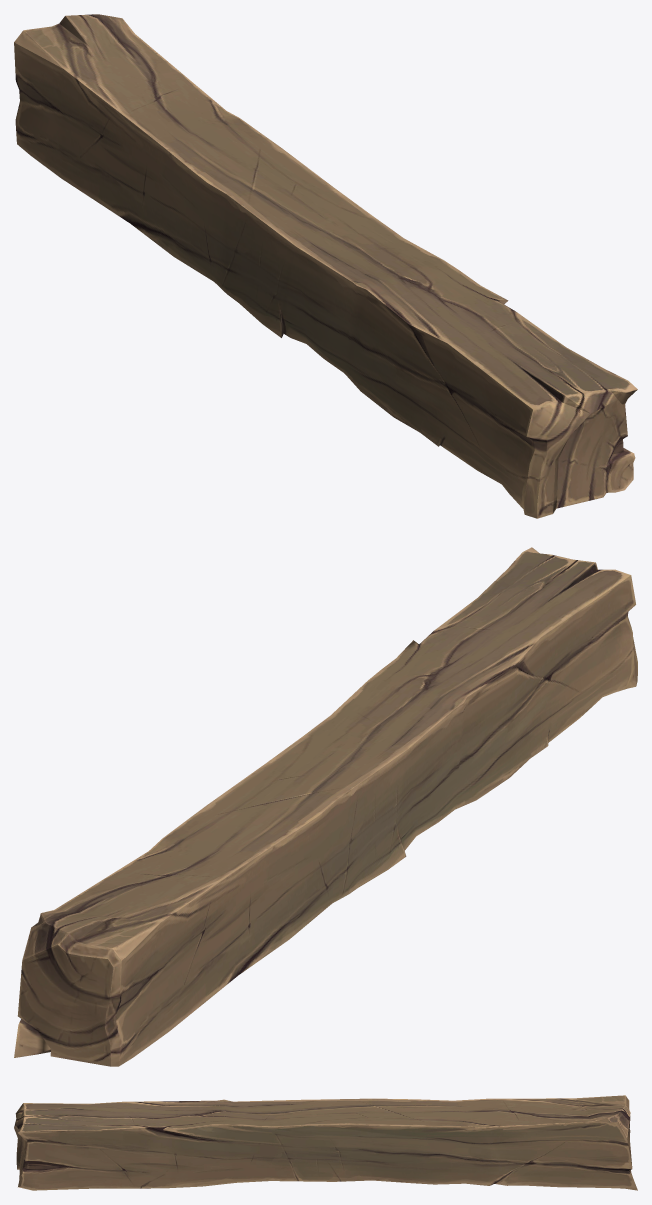
File: balk_wood_short.fbx
3 renders of one model, top to bottom at view 1: azimuth 30°, elevation 25°; view 2: azimuth 150°, elevation 25°; view 3: azimuth 270°, elevation 25°, orthographic. The views are drawn at different scales.
Visible parts, largest first — view 1: pillars.1_2; view 2: pillars.1_2; view 3: pillars.1_2.
Boxes of the visible parts, x1,y1,x2,y2 form: pillars.1_2: (14,14,637,518); pillars.1_2: (14,547,637,1066); pillars.1_2: (14,1095,637,1190).
Bounding box in the file's own units: 0.3688 × 0.3636 × 2.81.
